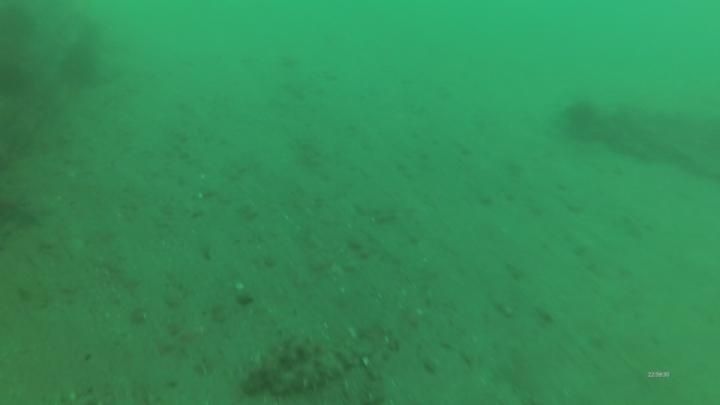echinus: (55, 42, 102, 92), (559, 97, 602, 139)
holothurian: (237, 330, 348, 400)
